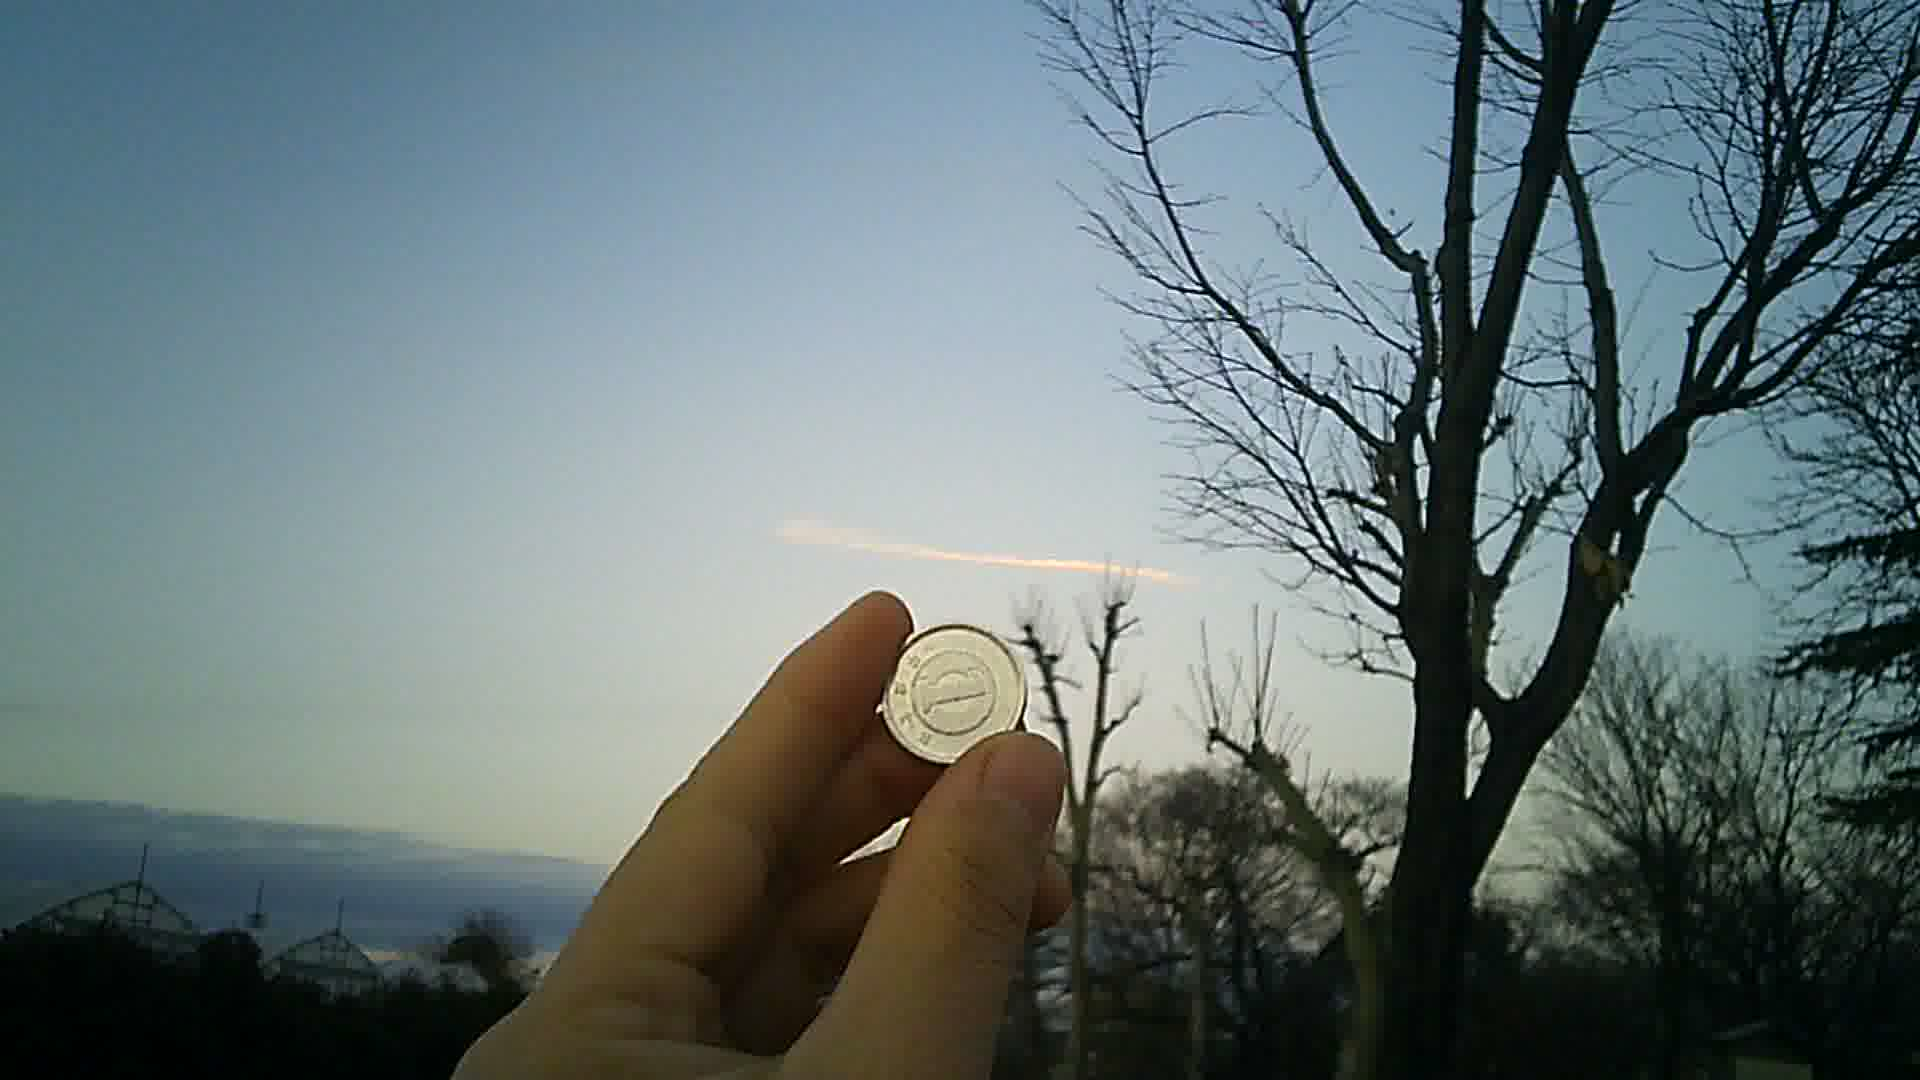1 Yen: (870, 625, 1040, 762)
